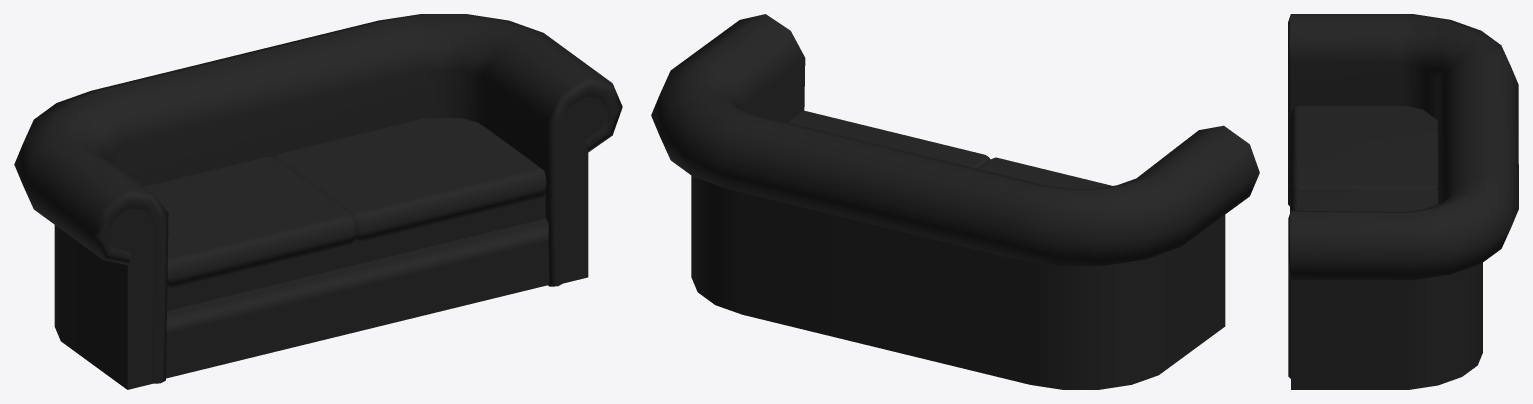
File: sofa_004.fbx
The picture shows the model from 3 angles, left to right: view 1: azimuth 30°, elevation 25°; view 2: azimuth 150°, elevation 25°; view 3: azimuth 270°, elevation 25°; orthographic projection. The views are drawn at different scales.
Parts seen in each view (by area): view 1: sofa_004; view 2: sofa_004; view 3: sofa_004.
Part boxes in pixels (x1,y1,x2,y2): sofa_004: (14, 14, 622, 389); sofa_004: (651, 14, 1259, 389); sofa_004: (1288, 14, 1518, 389).
Bounding box in the file's own units: 307 × 131 × 111.
